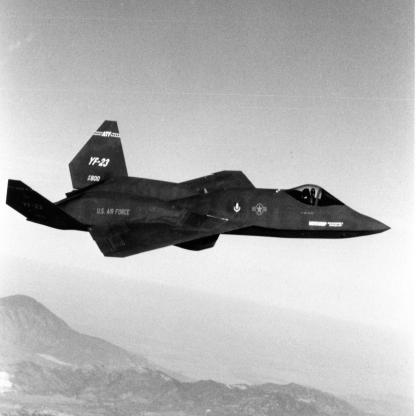YF23: (7, 121, 393, 258)
